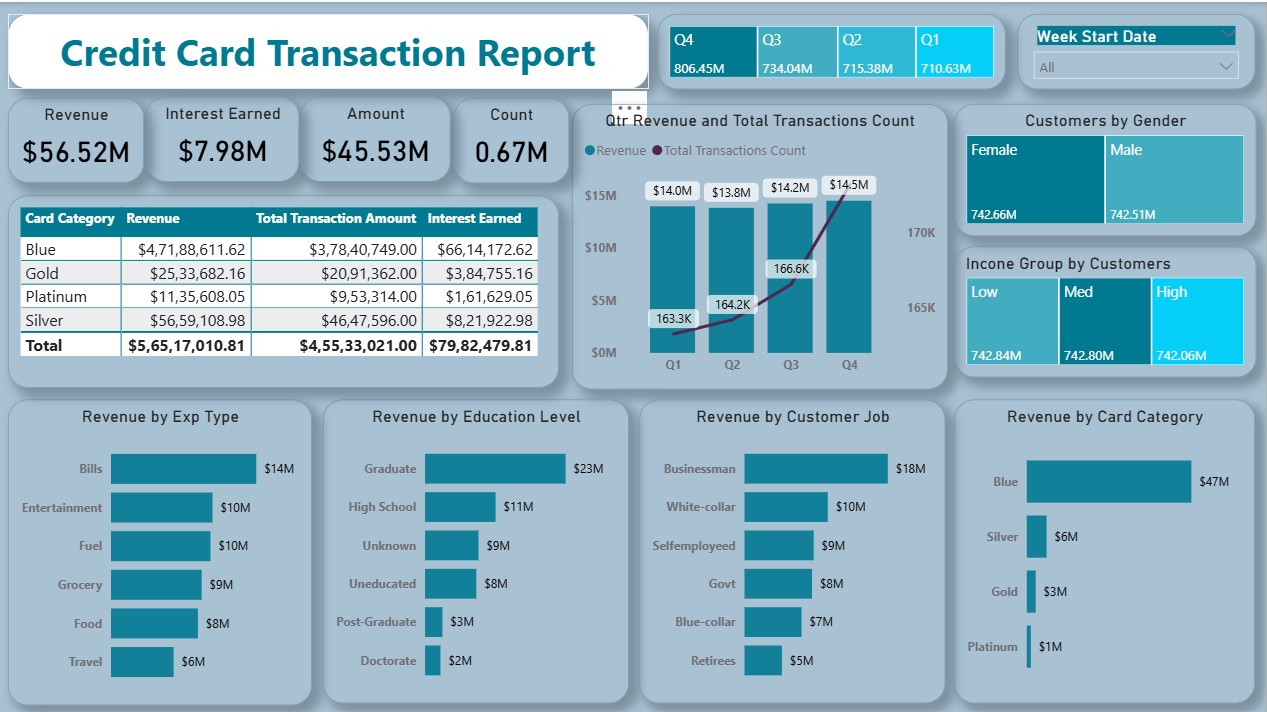

What the dashboard file says about the page in this screenshot:
{"tool":"powerbi","page":{"name":"CC Transaction","canvas":[1280,720],"ordinal":0},"visuals":[{"type":"textbox","box":[9.1,12.1,646.6,75.7],"z":0},{"type":"lineStackedColumnComboChart","title":"Qtr Revenue and Total Transactions Count","fields":{"Category":["cc_detail.Qtr"],"Y":["Sum(cc_detail.Revenue)"],"Y2":["Sum(cc_detail.Total_Trans_Ct)"]},"box":[578.3,102.3,379,288.2],"z":1000},{"type":"barChart","fields":{"Y":["Sum(cc_detail.Revenue)"],"Category":["cc_detail.Exp_Type"]},"box":[9.3,401.7,306.8,308.7],"z":2000},{"type":"barChart","fields":{"Y":["Sum(cc_detail.Revenue)"],"Category":["cust_detail.Education_Level"]},"box":[327.3,401.7,308.7,306.8],"z":3000},{"type":"barChart","fields":{"Y":["Sum(cc_detail.Revenue)"],"Category":["cust_detail.Customer_Job"]},"box":[647.1,401.7,308.7,306.8],"z":4000},{"type":"barChart","fields":{"Category":["cc_detail.Card_Category"],"Y":["Sum(cc_detail.Revenue)"]},"box":[965.1,401.7,303.1,306.8],"z":5000},{"type":"tableEx","fields":{"Values":["cc_detail.Card_Category","Sum(cc_detail.Revenue)","Sum(cc_detail.Total_Trans_Amt)","Sum(cc_detail.Interest_Earned)"]},"box":[9.1,195.3,555.7,193.8],"z":6000},{"type":"card","title":"Revenue","fields":{"Values":["Sum(cc_detail.Revenue)"]},"box":[9.3,96.7,137,85],"z":7000},{"type":"card","title":"Interest Earned","fields":{"Values":["Sum(cc_detail.Interest_Earned)"]},"box":[148.4,95.4,154.4,86.3],"z":8000},{"type":"card","title":"Amount","fields":{"Values":["Sum(cc_detail.Total_Trans_Amt)"]},"box":[304.4,95.4,151.4,86.3],"z":9000},{"type":"card","title":"Count","fields":{"Values":["Sum(cc_detail.Total_Trans_Ct)"]},"box":[458.8,96.9,116.6,86.3],"z":10000},{"type":"slicer","fields":{"Values":["cc_detail.Week_Start_Date"]},"box":[1028.1,12.5,239.9,76.2],"z":11000},{"type":"treemap","fields":{"Group":["cc_detail.Qtr"],"Values":["Avg(cc_detail.Client_Num)"]},"box":[665.4,12.5,351.5,76.2],"z":12000},{"type":"treemap","title":"Customers by Gender","fields":{"Values":["Avg(cc_detail.Client_Num)"],"Group":["cust_detail.Gender_Det"]},"box":[964.5,103,304.4,133.3],"z":13000},{"type":"treemap","title":"Incone Group by Customers","fields":{"Values":["Avg(cust_detail.Client_Num)"],"Group":["cust_detail.Income Group"]},"box":[964.5,246.8,304.4,131.7],"z":15000}]}

Visuals, with their boxes in screenshot pixels (x1, y1, x2, y2), scaled from the page's 1280x720 canvas onto the 1267x712 screenshot:
textbox: 9 12 649 87
"Qtr Revenue and Total Transactions Count" lineStackedColumnComboChart: 572 101 948 386
barChart - Sum(cc_detail.Revenue) x cc_detail.Exp_Type: 9 397 313 703
barChart - Sum(cc_detail.Revenue) x cust_detail.Education_Level: 324 397 630 701
barChart - Sum(cc_detail.Revenue) x cust_detail.Customer_Job: 641 397 946 701
barChart - cc_detail.Card_Category x Sum(cc_detail.Revenue): 955 397 1255 701
tableEx - cc_detail.Card_Category x Sum(cc_detail.Revenue): 9 193 559 385
"Revenue" card: 9 96 145 180
"Interest Earned" card: 147 94 300 180
"Amount" card: 301 94 451 180
"Count" card: 454 96 570 181
slicer - cc_detail.Week_Start_Date: 1018 12 1255 88
treemap - cc_detail.Qtr x Avg(cc_detail.Client_Num): 659 12 1007 88
"Customers by Gender" treemap: 955 102 1256 234
"Incone Group by Customers" treemap: 955 244 1256 374
